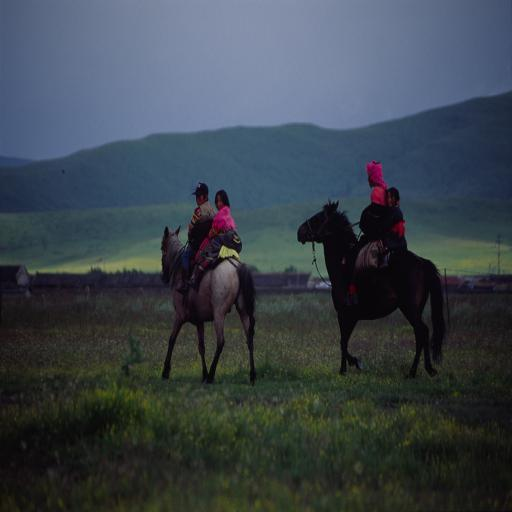horse: (296, 196, 446, 378), (158, 223, 257, 388)
